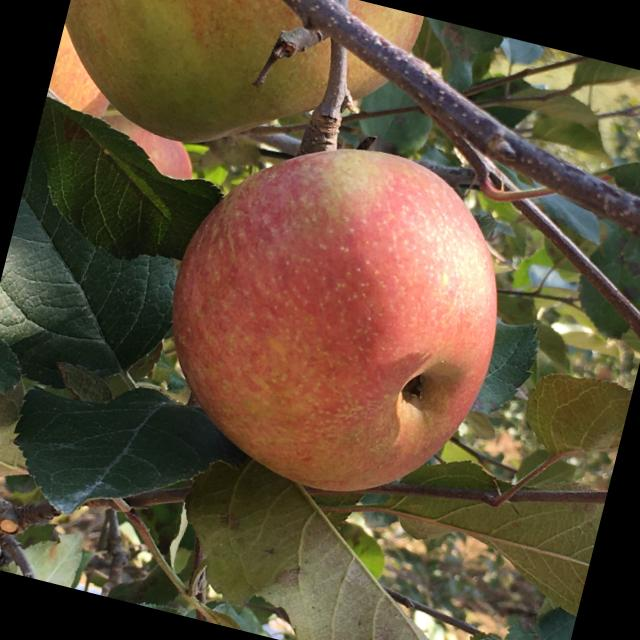fresh: (127, 99, 547, 535)
